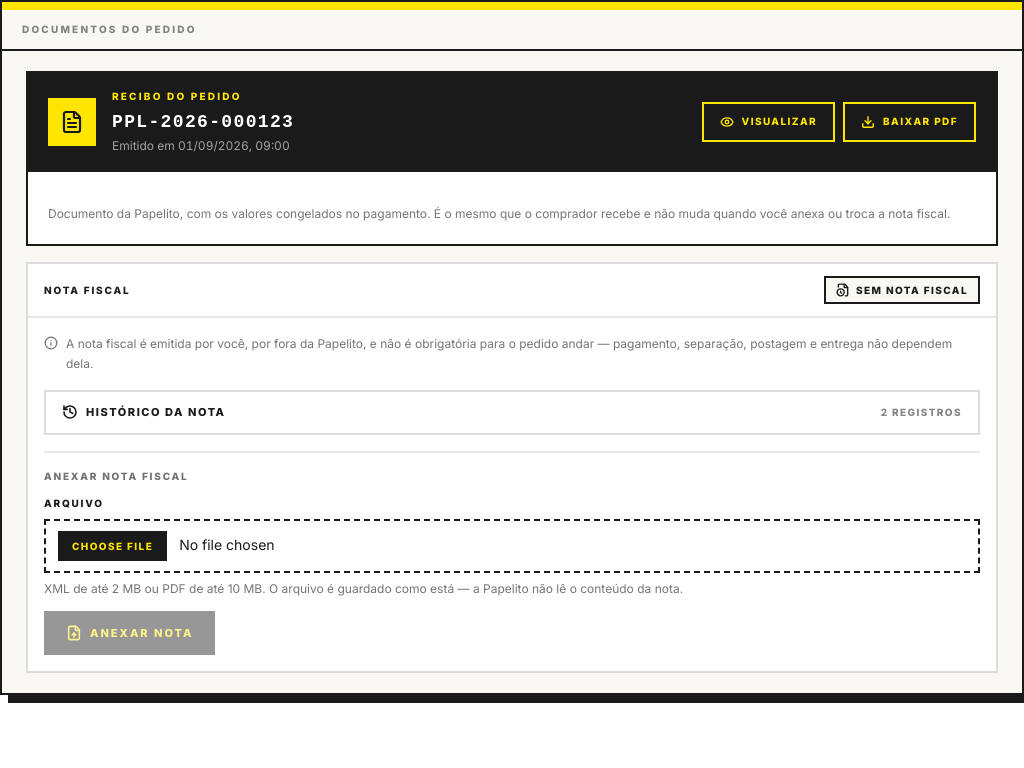
Scenario: VendorOrderDocumentsSection › mantém a trilha depois de remover a nota — é o único rastro que sobra
Click the button "Histórico da nota 2 registros" at (156, 412), box [46,392,978,432]
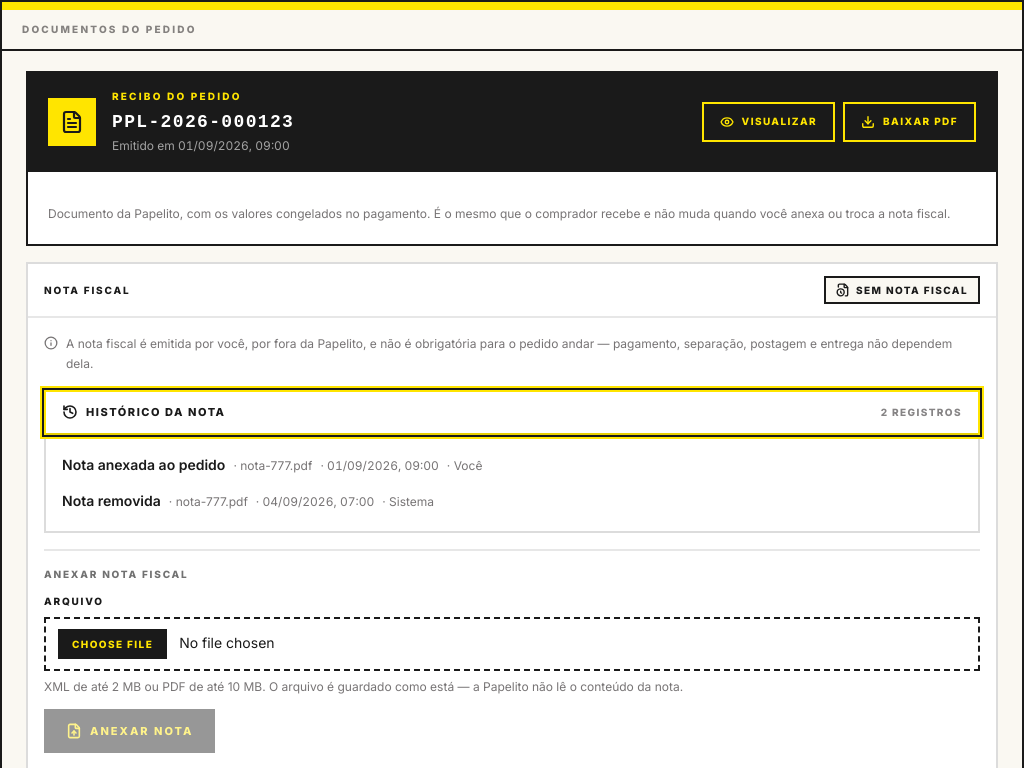
Now the text "Nota anexada ao pedido" is shown, box [62,452,225,476]
Now the text "Nota removida" is shown, box [62,488,161,512]
Now the text "· Sistema" is shown, box [382,494,434,510]
